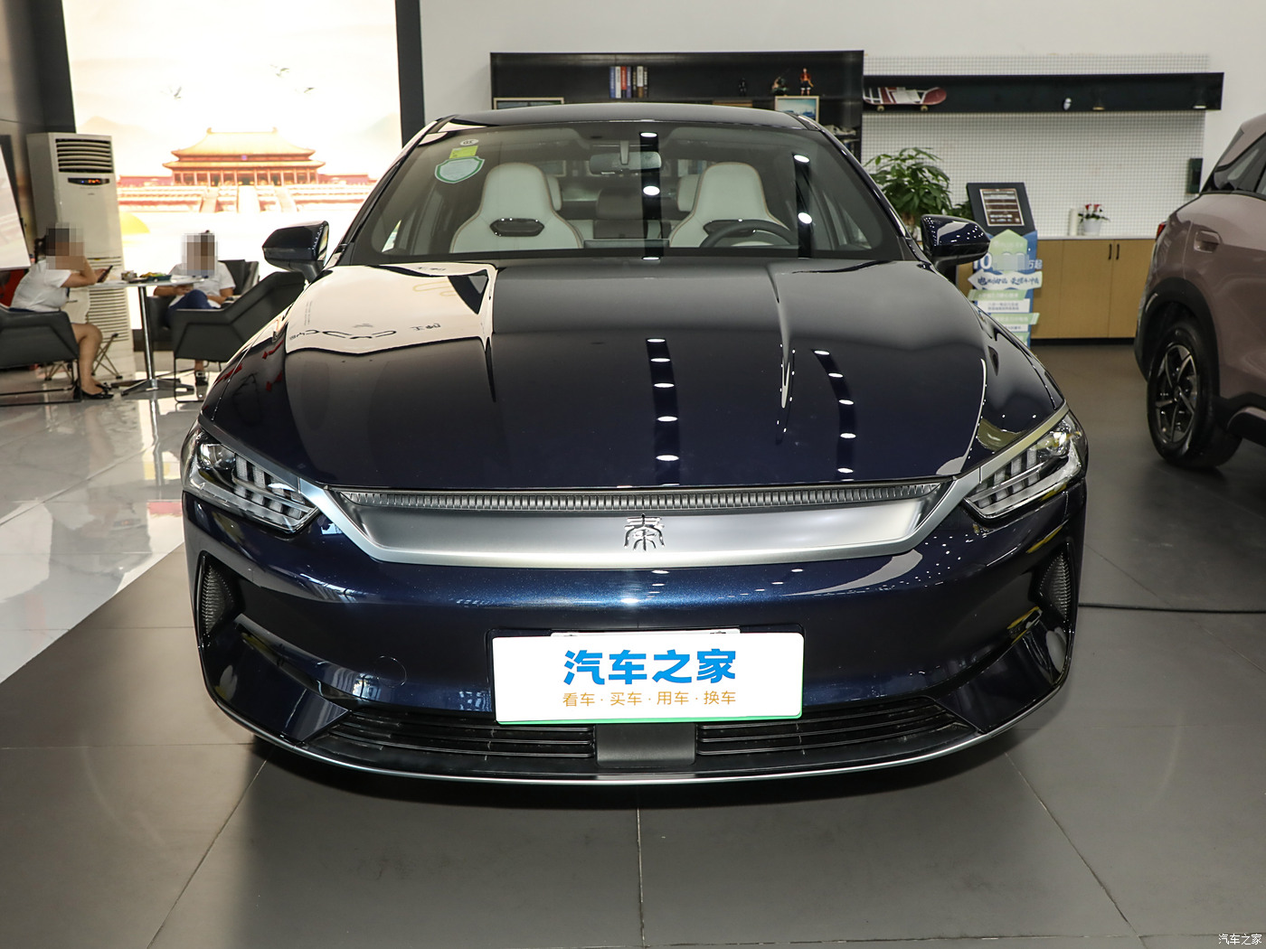BYD Qin: (625, 513, 665, 550)
